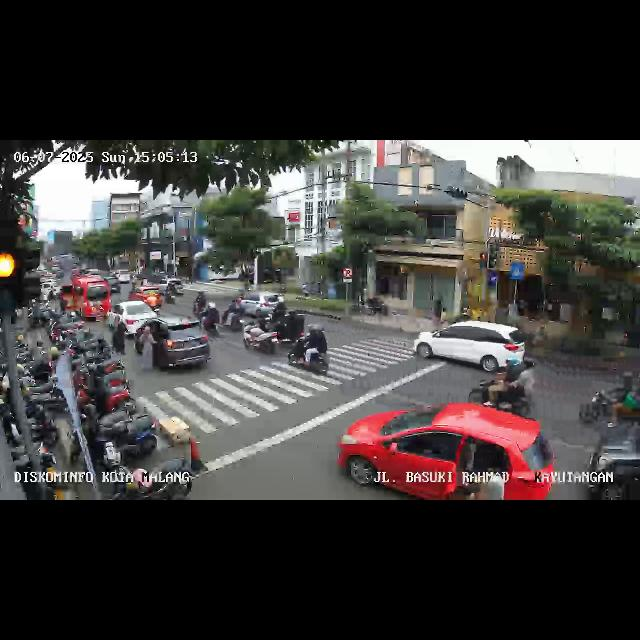car: (338, 402, 554, 500), (416, 319, 528, 377), (580, 418, 640, 499), (135, 320, 211, 374), (58, 278, 110, 322), (108, 300, 158, 338), (233, 290, 284, 318), (132, 285, 164, 311), (153, 280, 184, 294)
motorcycle: (470, 354, 540, 418), (584, 366, 640, 432), (288, 322, 332, 378), (242, 312, 284, 356), (268, 296, 304, 322), (202, 300, 222, 336), (164, 283, 178, 307)
person: (139, 325, 159, 379), (110, 310, 128, 356)
